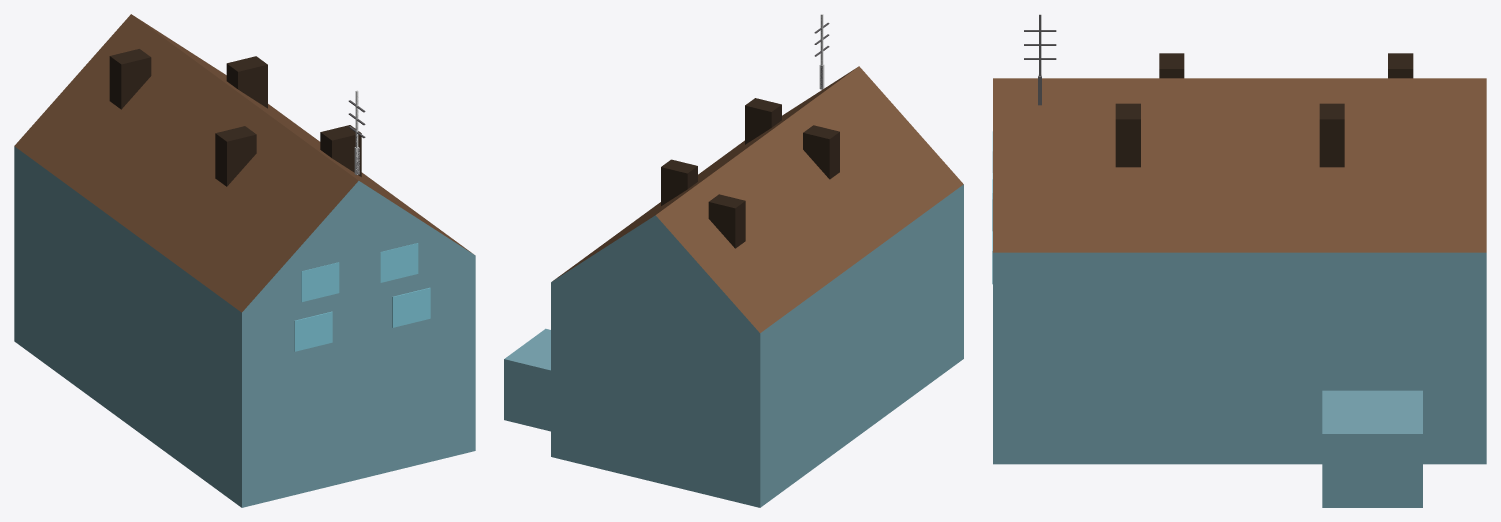
Rendered from house3_L.fbx.
The picture shows the model from 3 angles, left to right: view 1: azimuth 30°, elevation 25°; view 2: azimuth 150°, elevation 25°; view 3: azimuth 270°, elevation 25°; orthographic projection. The views are drawn at different scales.
Visible parts, largest first — view 1: Cube.060, Cube.064, Cube.065, Cube.063, Cube.062; view 2: Cube.060, Cube.061, Cube.064, Cube.065; view 3: Cube.060, Cube.061, Cube.065, Cube.064.
Boxes of the visible parts, <box> form: Cube.060: <box>14,14,475,507</box>; Cube.064: <box>109,49,256,186</box>; Cube.065: <box>226,56,361,176</box>; Cube.063: <box>294,287,430,351</box>; Cube.062: <box>301,243,418,302</box>; Cube.060: <box>551,66,963,507</box>; Cube.061: <box>504,328,550,431</box>; Cube.064: <box>708,125,839,248</box>; Cube.065: <box>661,98,781,205</box>; Cube.060: <box>993,78,1486,464</box>; Cube.061: <box>1322,390,1422,507</box>; Cube.065: <box>1115,103,1344,167</box>; Cube.064: <box>1159,53,1413,78</box>.
Size of the model in its own units: 15.19 by 19.01 by 16.92.
